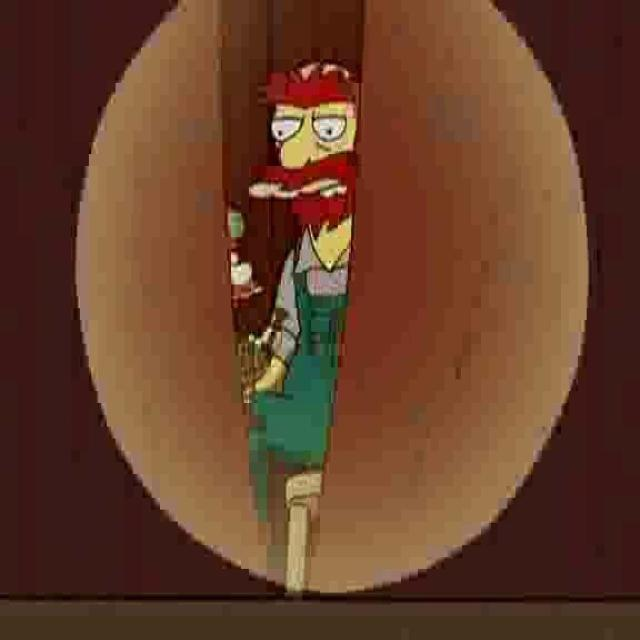Groundskeeper Willie: (243, 58, 359, 240)
